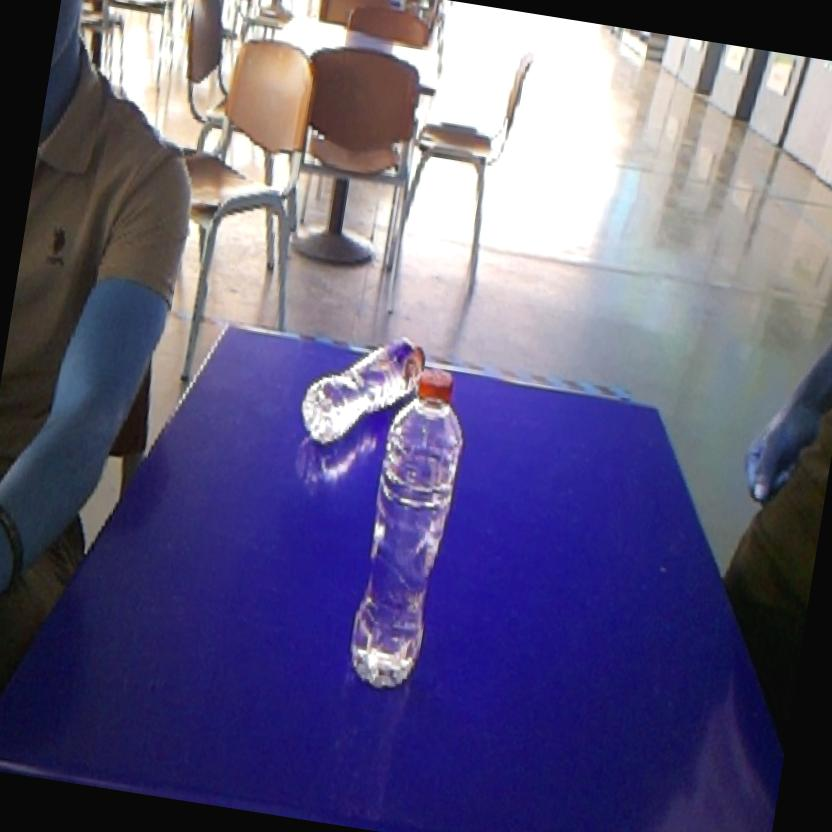no_label: (336, 354, 484, 704)
